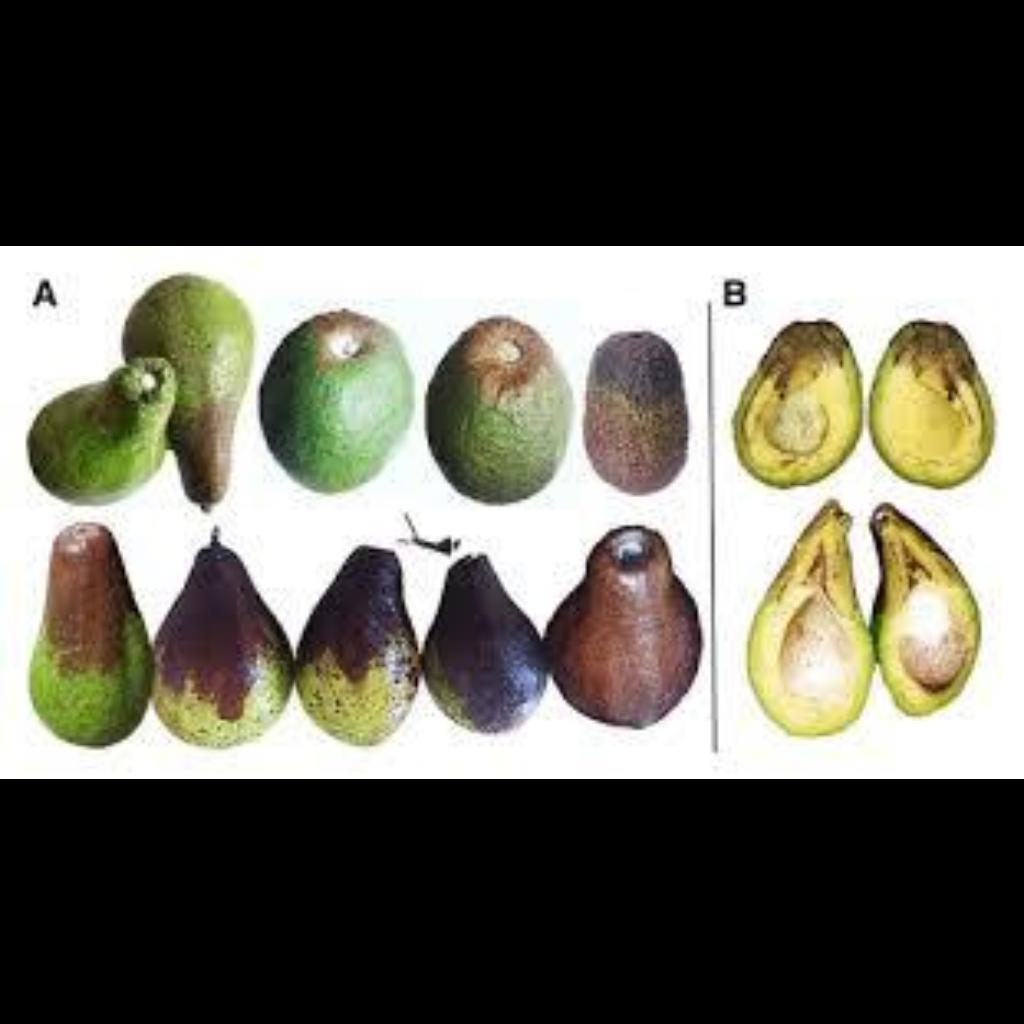antracnosis_fruto: (155, 538, 432, 739), (769, 312, 983, 406), (769, 504, 967, 598), (579, 329, 691, 464), (36, 572, 138, 687)
